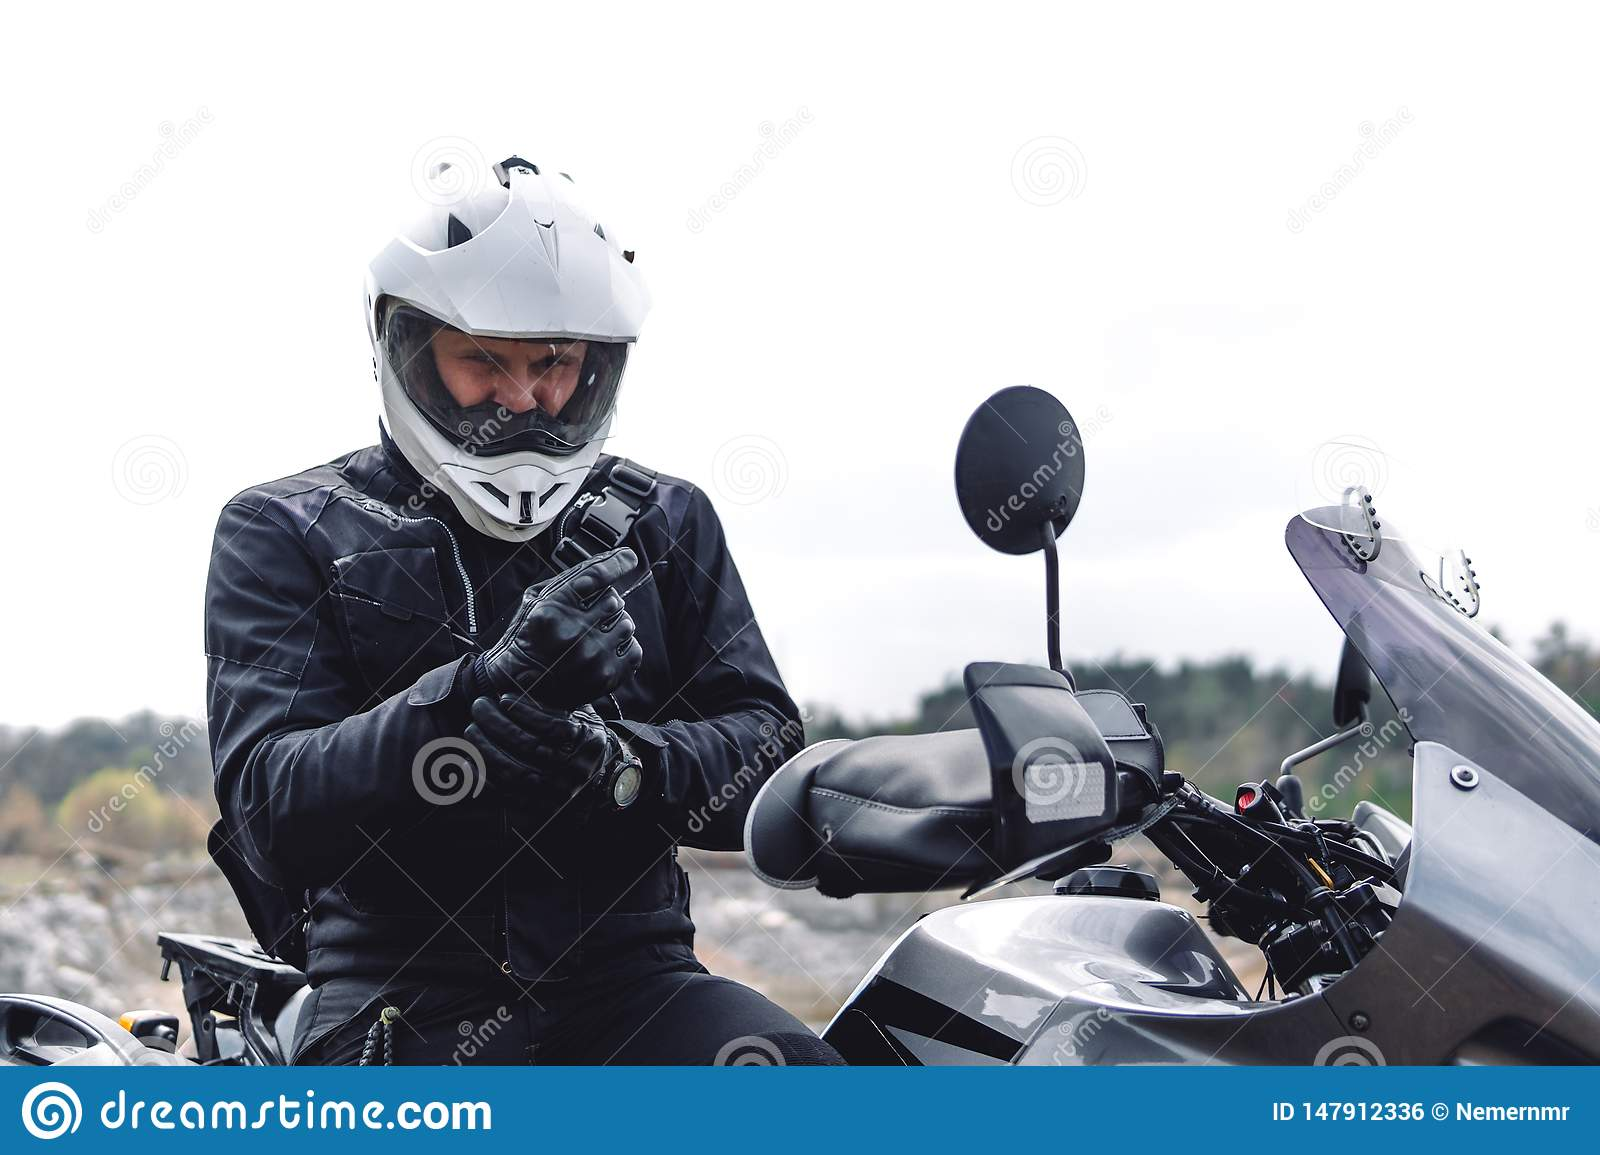helmet: (355, 161, 660, 528)
